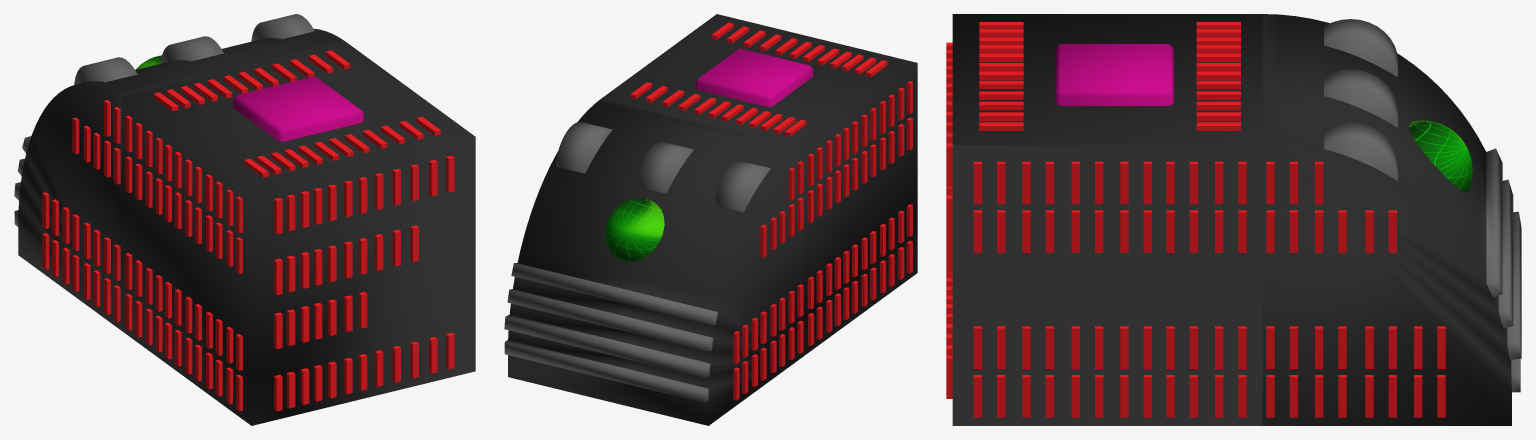
The model's file is Autopilot-Block_Large.fbx.
3 renders of one model, left to right at view 1: azimuth 30°, elevation 25°; view 2: azimuth 150°, elevation 25°; view 3: azimuth 270°, elevation 25°, orthographic. The views are drawn at different scales.
Parts seen in each view (by area): view 1: Cube.132, Cube.136, Cube.131, Cylinder.118, Cylinder.117, Cylinder.119; view 2: Cube.132, Cube.136, Cube.131, Sphere.031, Cylinder.118, Cylinder.119, Cylinder.117; view 3: Cube.132, Cube.136, Cube.131, Sphere.031, Cylinder.117, Cylinder.118, Cylinder.119.
Part boxes in pixels (x1=…): Cube.132: x1=14, y1=28, x2=475, y2=425; Cube.136: x1=42, y1=50, x2=454, y2=411; Cube.131: x1=233, y1=76, x2=363, y2=141; Cylinder.118: x1=160, y1=36, x2=223, y2=63; Cylinder.117: x1=251, y1=14, x2=314, y2=41; Cylinder.119: x1=74, y1=57, x2=137, y2=84; Cube.132: x1=504, y1=14, x2=917, y2=425; Cube.136: x1=630, y1=22, x2=912, y2=400; Cube.131: x1=696, y1=48, x2=812, y2=106; Sphere.031: x1=605, y1=198, x2=664, y2=261; Cylinder.118: x1=637, y1=141, x2=693, y2=193; Cylinder.119: x1=714, y1=160, x2=770, y2=212; Cylinder.117: x1=556, y1=121, x2=612, y2=173; Cube.132: x1=952, y1=14, x2=1521, y2=425; Cube.136: x1=946, y1=22, x2=1445, y2=417; Cube.131: x1=1055, y1=44, x2=1173, y2=105; Sphere.031: x1=1409, y1=120, x2=1472, y2=192; Cylinder.117: x1=1324, y1=122, x2=1397, y2=180; Cylinder.118: x1=1324, y1=69, x2=1397, y2=127; Cylinder.119: x1=1324, y1=19, x2=1397, y2=77.
Size of the model in its own units: 2.59 by 2.63 by 4.64.
